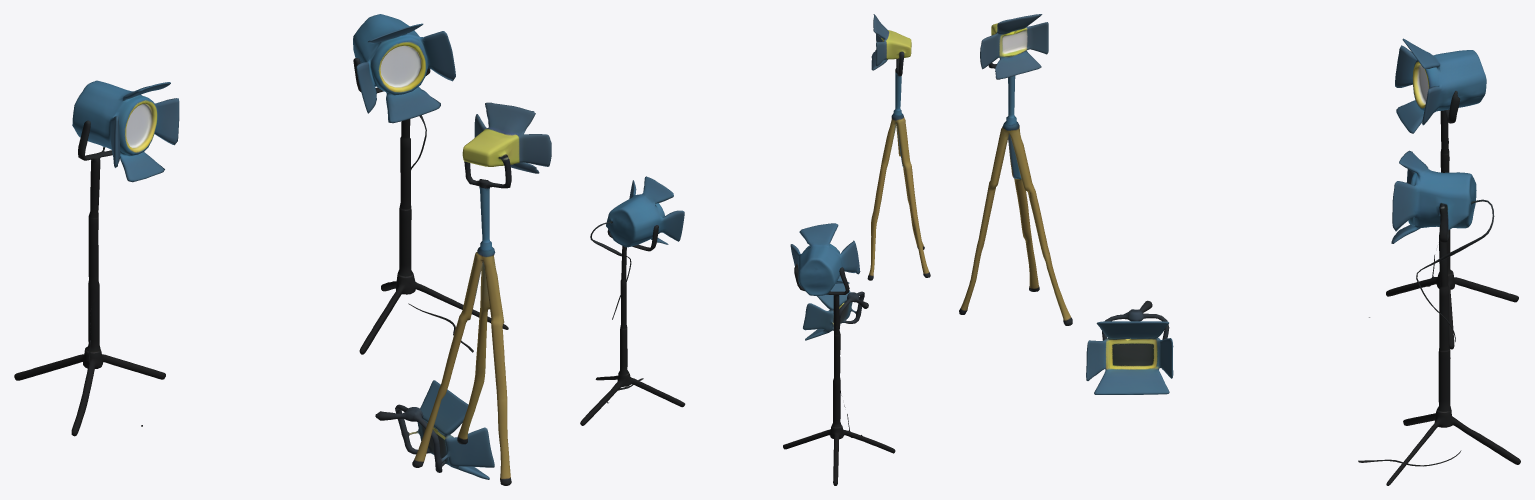
File: original.glb
3 renders of one model, left to right at view 1: azimuth 30°, elevation 25°; view 2: azimuth 150°, elevation 25°; view 3: azimuth 270°, elevation 25°, orthographic. The views are drawn at different scales.
Parts seen in each view (by area): view 1: model; view 2: model; view 3: model.
Boxes of the visible parts, left/top/right/bottom form: model: left=14, top=14, right=551, bottom=485; model: left=580, top=14, right=930, bottom=485; model: left=959, top=14, right=1520, bottom=485.
Size of the model in its own units: 1.53 by 1.42 by 1.9.
Materials: 1 (1 with a texture image).
